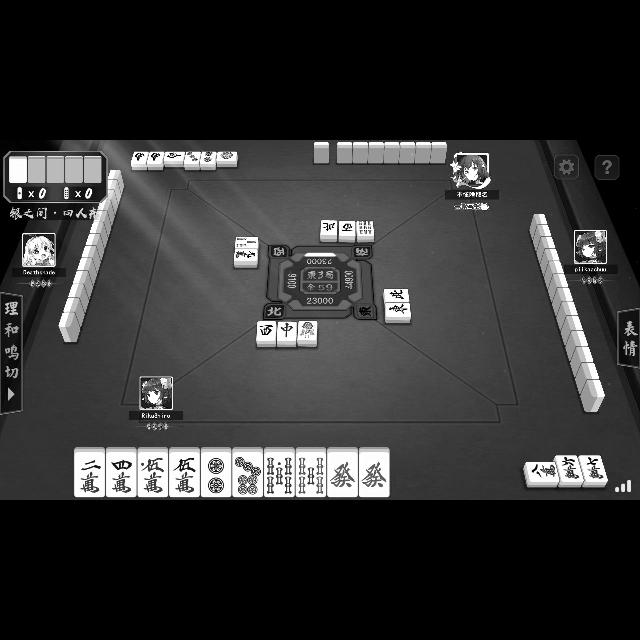1p: (216, 152, 238, 166)
1s: (298, 321, 318, 347)
2m: (74, 448, 106, 497)
2p: (200, 447, 232, 497), (201, 152, 217, 170)
3p: (184, 152, 200, 170)
3s: (236, 238, 258, 248)
4m: (106, 448, 136, 497)
5m: (136, 447, 168, 497), (168, 447, 200, 497)
5s: (295, 447, 327, 497), (264, 447, 294, 497)
6m: (556, 455, 584, 487)
7m: (580, 457, 608, 488)
7p: (233, 448, 263, 497)
8m: (523, 461, 559, 487)
9m: (234, 249, 258, 267)
9s: (356, 222, 374, 242)
chun: (277, 321, 297, 347)
haku: (10, 156, 26, 182)
hatsu: (327, 448, 359, 498), (358, 448, 389, 497)
nan: (130, 152, 148, 170), (146, 152, 164, 170), (163, 152, 184, 166)
pe: (321, 220, 337, 242), (384, 290, 410, 302)
sha: (256, 322, 276, 346), (339, 222, 355, 242)
tou: (385, 303, 411, 323)
